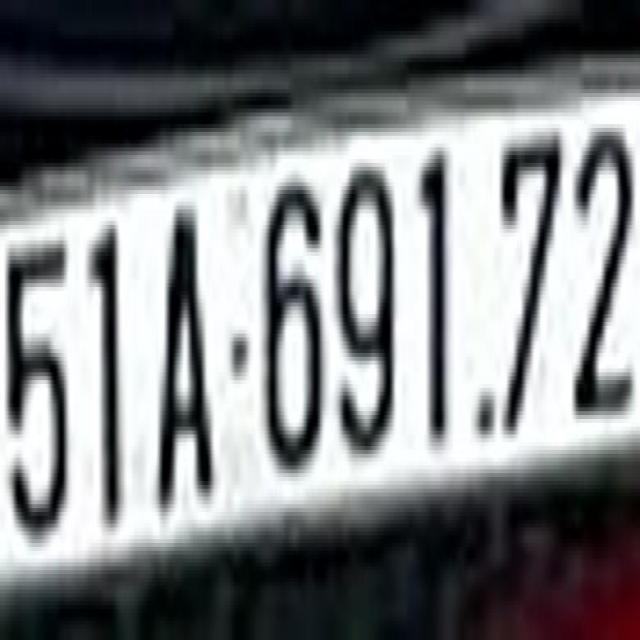1: (88, 229, 128, 547), (417, 152, 453, 434)
2: (572, 108, 638, 426)
5: (1, 232, 68, 554)
6: (264, 167, 322, 481)
7: (498, 132, 562, 438)
9: (336, 162, 394, 462)
A: (157, 198, 216, 504)
